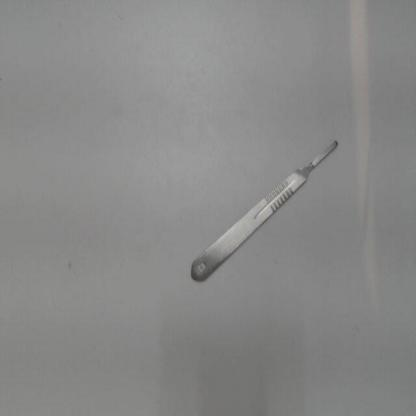No.4 BP Handle: (181, 125, 350, 294)
